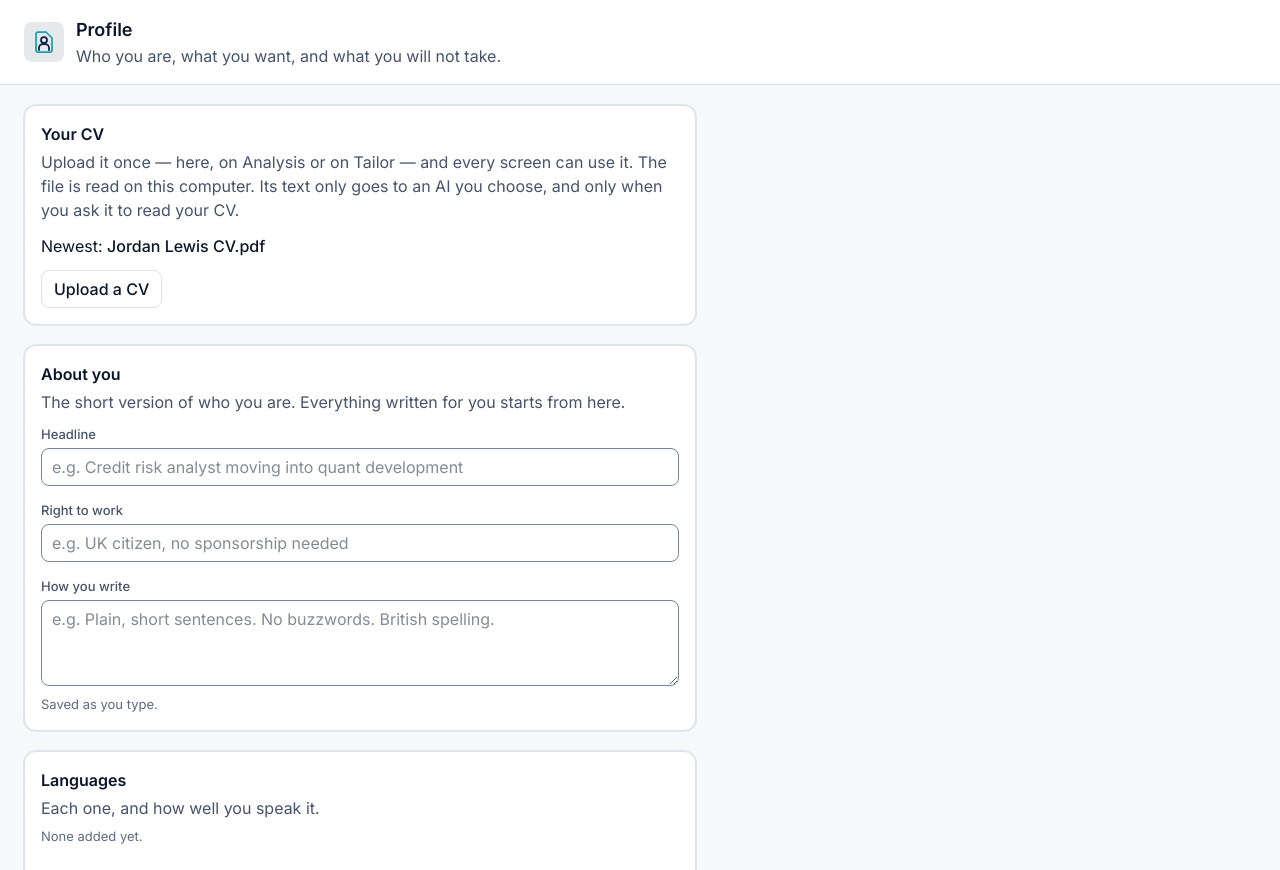
Your CV, on Profile › boundary: an empty file is refused in the parser’s words and the current CV is unchanged
Expected: the element with test id "profile-cv" is shown, 24,105 -> 696,325
Expected: the element with test id "profile-cv-current" shows "Jordan Lewis", 107,236 -> 265,256
Click the button with test id "profile-upload": click(102, 289) 41,270 -> 162,308
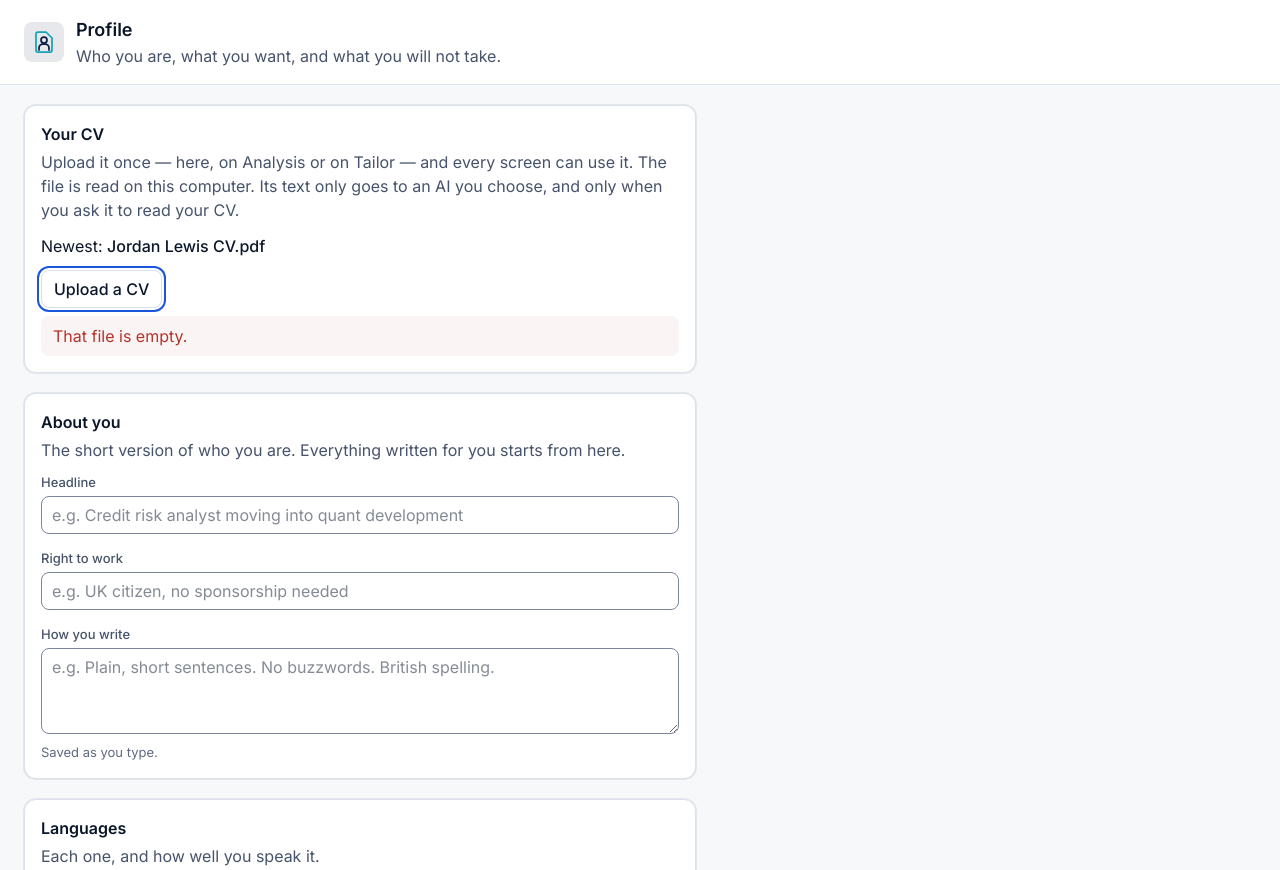
Expected: the element with test id "profile-cv-current" shows "Jordan Lewis", 107,236 -> 265,256
Expected: the message with test id "profile-upload-problem" reads "That file is empty.", 53,326 -> 187,346
